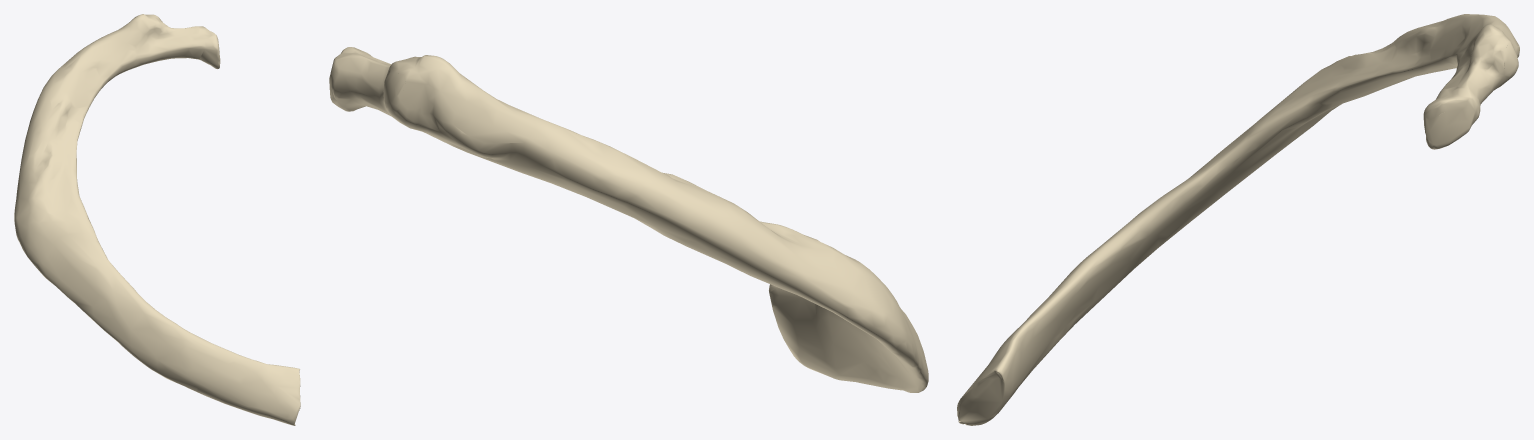
File: esqueleto-second-rib-r.glb
3 renders of one model, left to right at view 1: azimuth 30°, elevation 25°; view 2: azimuth 150°, elevation 25°; view 3: azimuth 270°, elevation 25°, orthographic. The views are drawn at different scales.
Visible parts, largest first — view 1: Second rib.r; view 2: Second rib.r; view 3: Second rib.r.
Part boxes in pixels (x1,y1,x2,y2): Second rib.r: [14, 14, 300, 425]; Second rib.r: [329, 47, 928, 392]; Second rib.r: [957, 14, 1519, 425].
Bounding box in the file's own units: 0.0821 × 0.0913 × 0.1119.
